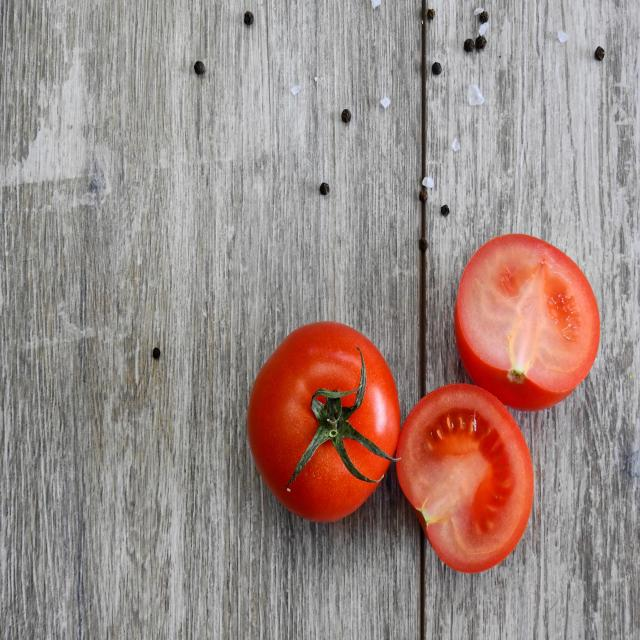Tomato: (247, 298, 394, 530), (451, 219, 596, 413), (409, 364, 530, 568)
